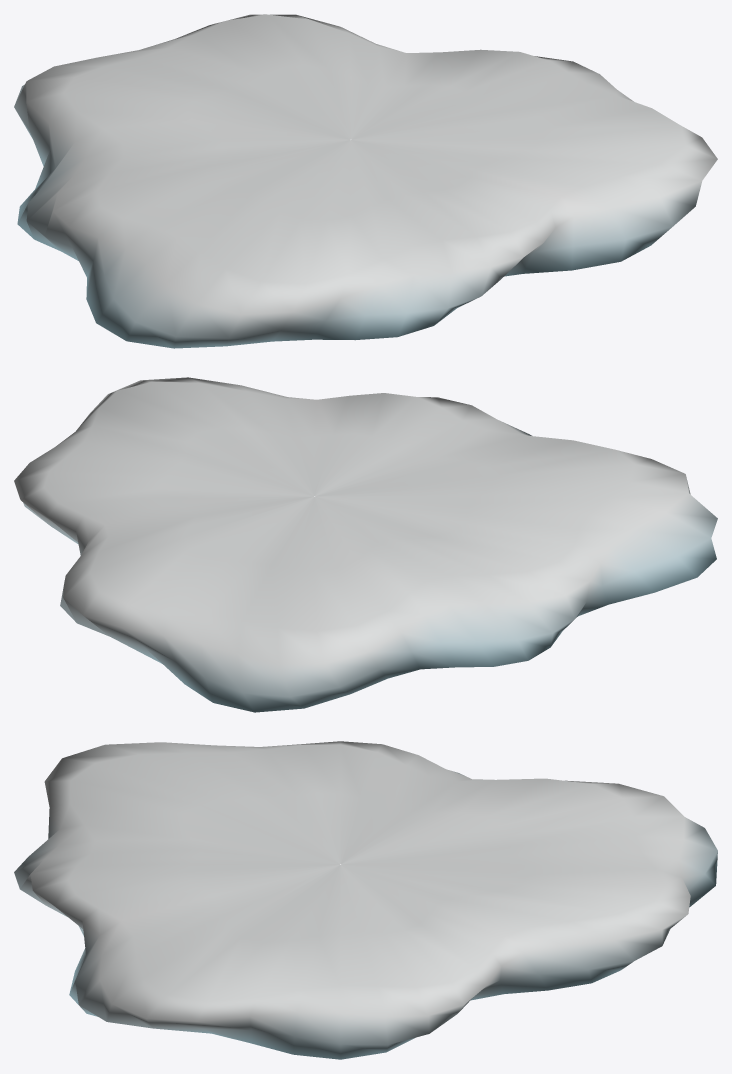
The model's file is ice_floe.glb.
3 views of the same model, one above another, from view 1: azimuth 30°, elevation 25°; view 2: azimuth 150°, elevation 25°; view 3: azimuth 270°, elevation 25° (orthographic). The views are drawn at different scales.
Visible parts, largest first — view 1: world; view 2: world; view 3: world.
Part boxes in pixels (x1,y1,x2,y2): world: [14, 14, 717, 348]; world: [14, 377, 717, 712]; world: [14, 741, 717, 1059].
Size of the model in its own units: 2.16 by 0.2318 by 2.12.
